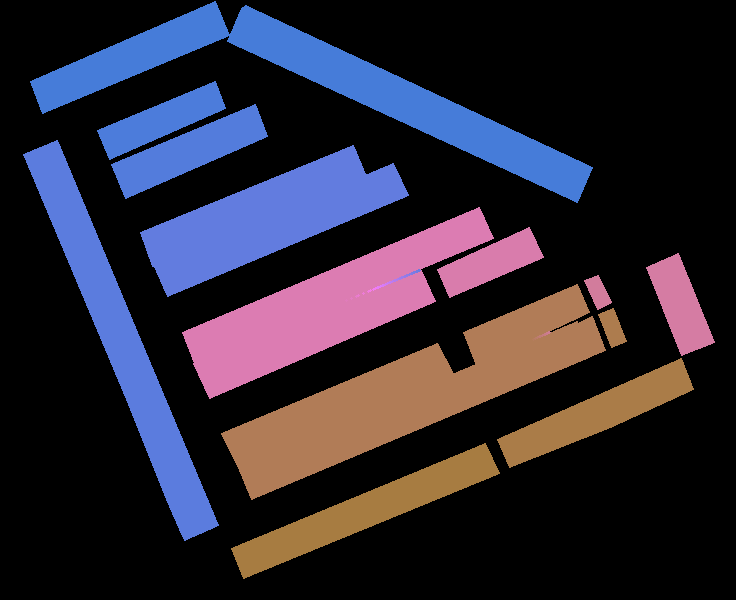parkingspot: (23, 140, 218, 540), (227, 5, 592, 202), (237, 321, 591, 499), (182, 207, 493, 363), (231, 443, 499, 578), (153, 163, 408, 296), (193, 270, 435, 398), (221, 343, 453, 465), (140, 145, 366, 266), (30, 1, 229, 113), (497, 358, 693, 467), (111, 104, 267, 198), (463, 284, 589, 365), (97, 81, 225, 159), (437, 227, 543, 297), (646, 253, 714, 355), (577, 316, 605, 356), (598, 308, 626, 347), (584, 275, 611, 309)
